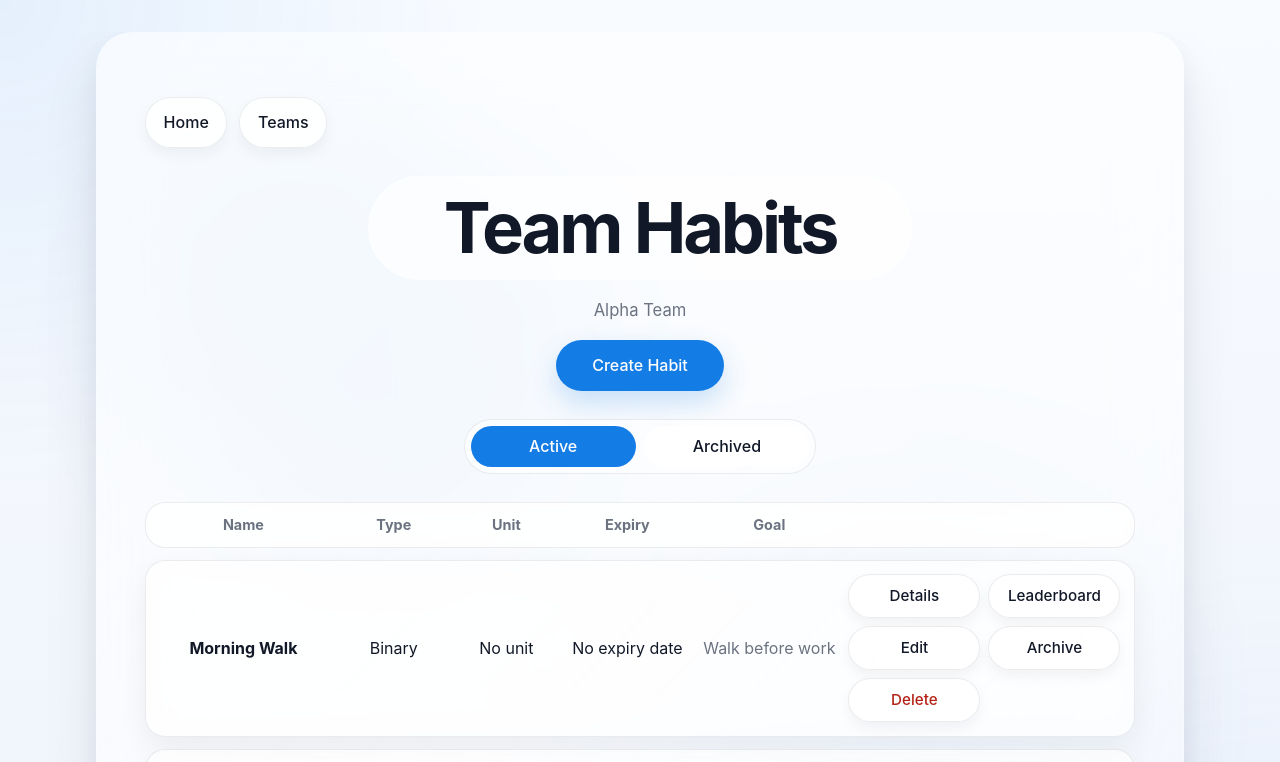
Test: archives a habit and removes it from the list
This screenshot has width=1280, height=762.
expect the text "Morning Walk" is shown: met, box [189,638,298,658]
Click the button "Archive".
click(1054, 648)  # box [988,626,1120,670]
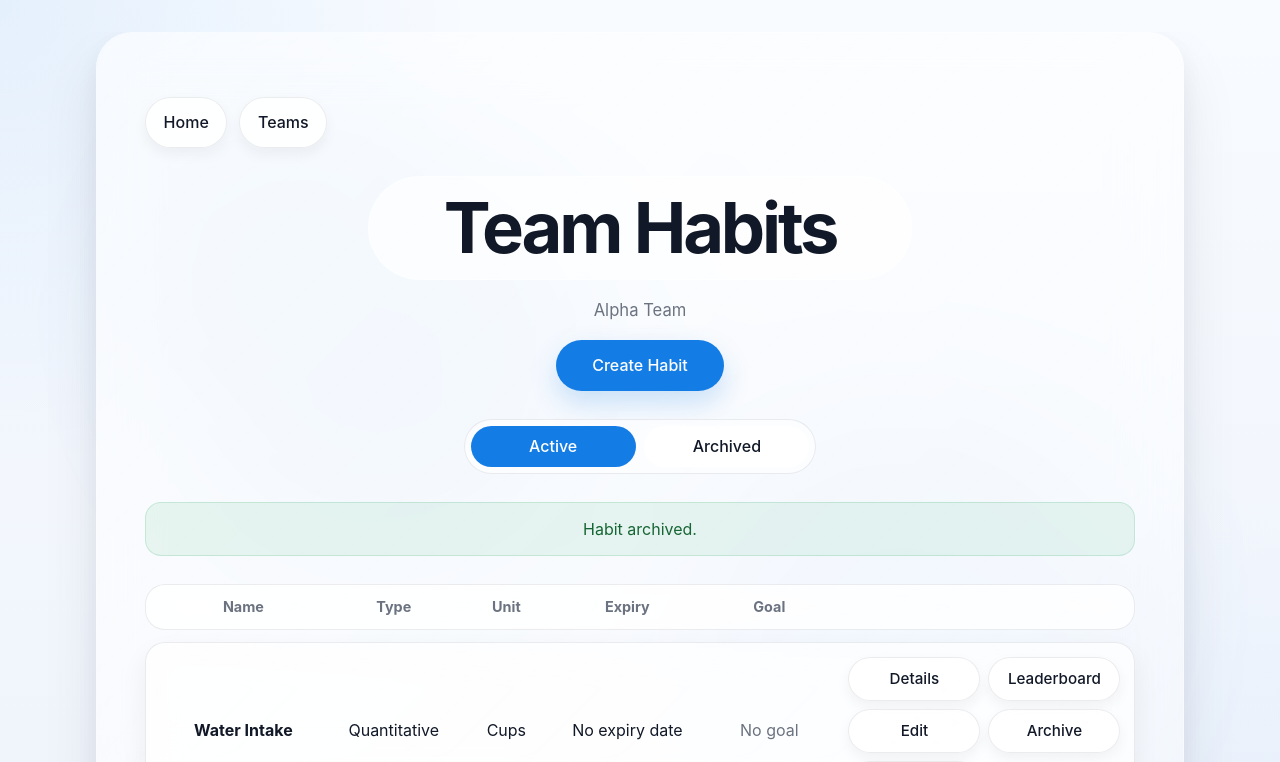
expect the text "Morning Walk" is gone: met
expect the text "Habit archived." is shown: met, box [145,502,1135,556]
